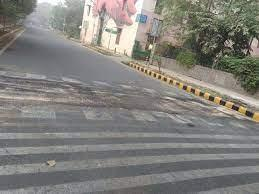speedbreaker: (0, 72, 233, 129)
